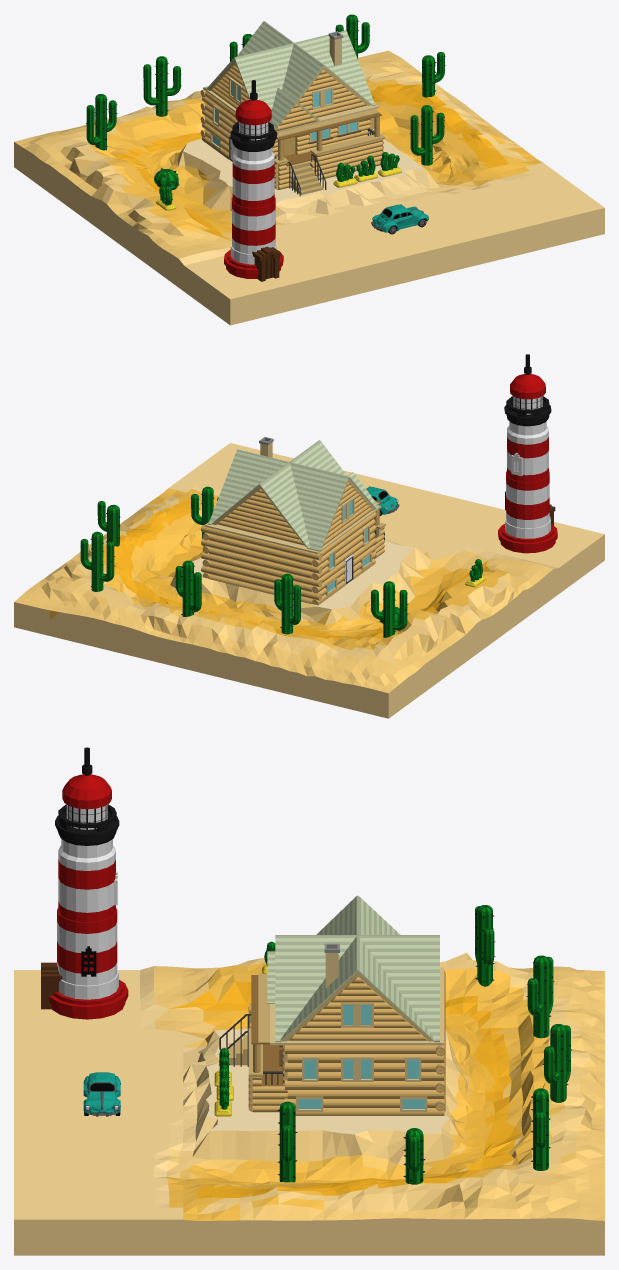
3 renders of one model, top to bottom at view 1: azimuth 30°, elevation 25°; view 2: azimuth 150°, elevation 25°; view 3: azimuth 270°, elevation 25°, orthographic. The views are drawn at different scales.
Parts seen in each view (by area): view 1: Cube.001, Cube.1516, OBJRANDOM_LIGHTHOUSE, Cylinder.044, Cylinder.037, Cylinder.045, VEHICLES_VOLKSWAGEN, Cylinder.038, Cylinder.042, Cylinder.039, Cylinder.041; view 2: Cube.001, Cube.1516, OBJRANDOM_LIGHTHOUSE, Cylinder.042, Cylinder.045, Cylinder.044, Cylinder.043, Cylinder.038, Cylinder.037, VEHICLES_VOLKSWAGEN; view 3: Cube.001, Cube.1516, OBJRANDOM_LIGHTHOUSE, Cylinder.044, Cylinder.043, VEHICLES_VOLKSWAGEN, Cylinder.045, Cylinder.037, Cylinder.042, Cylinder.038.
Part boxes in pixels (x1,y1,x2,y2): Cube.001: (14,50,604,325); Cube.1516: (200,21,385,196); OBJRANDOM_LIGHTHOUSE: (224,80,283,281); Cylinder.044: (143,56,181,116); Cylinder.037: (410,105,444,165); Cylinder.045: (86,94,117,150); VEHICLES_VOLKSWAGEN: (371,204,428,234); Cylinder.038: (422,52,445,97); Cylinder.042: (335,14,369,59); Cylinder.039: (333,162,357,187); Cylinder.041: (378,152,401,176); Cube.001: (14,443,604,718); Cube.1516: (201,437,385,605); OBJRANDOM_LIGHTHOUSE: (498,354,557,553); Cylinder.042: (80,531,115,591); Cylinder.045: (370,581,408,637); Cylinder.044: (274,573,301,634); Cylinder.043: (175,560,201,616); Cylinder.038: (97,501,120,546); Cylinder.037: (191,486,218,546); VEHICLES_VOLKSWAGEN: (366,486,399,515); Cube.001: (14,952,604,1255); Cube.1516: (219,895,445,1115); OBJRANDOM_LIGHTHOUSE: (41,747,128,1019); Cylinder.044: (526,955,554,1038); Cylinder.043: (543,1024,571,1102); VEHICLES_VOLKSWAGEN: (83,1072,120,1116); Cylinder.045: (475,905,495,986); Cylinder.037: (277,1101,297,1182); Cylinder.042: (531,1088,550,1170); Cylinder.038: (403,1128,425,1184).
Bounding box in the file's own units: 4002 × 2258 × 4001.
33 materials, 3 textured.
